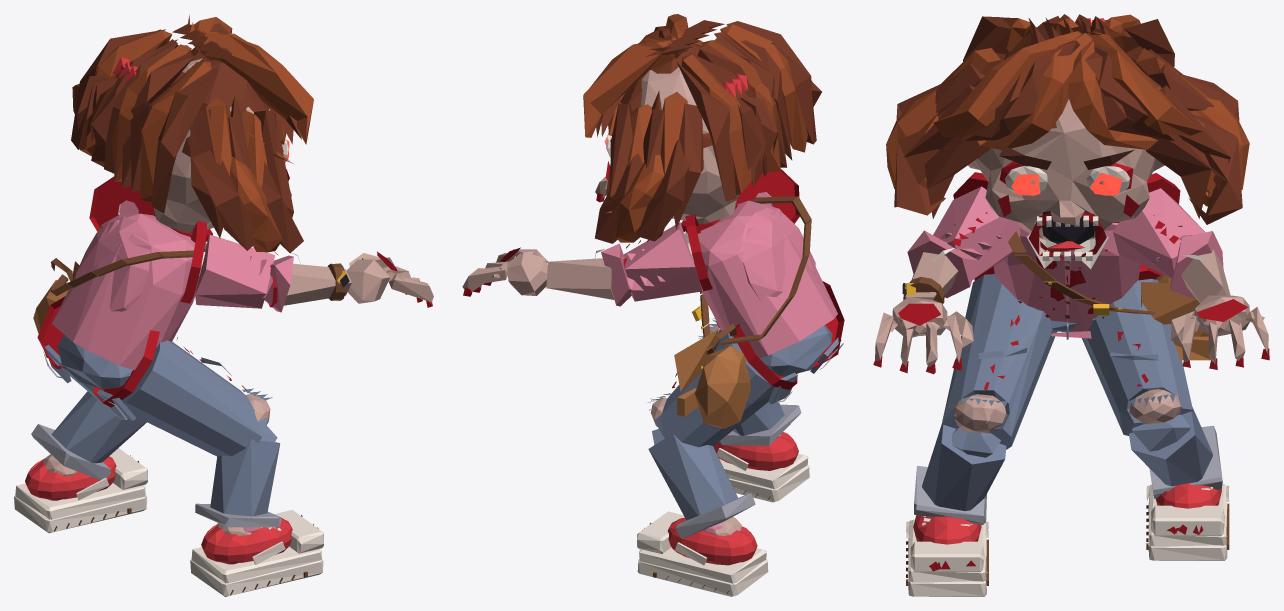
The model's file is inf.suburban-mom.lod1.glb.
3 renders of one model, left to right at view 1: azimuth 30°, elevation 25°; view 2: azimuth 150°, elevation 25°; view 3: azimuth 270°, elevation 25°, orthographic. The views are drawn at different scales.
Parts seen in each view (by area): view 1: head, torso, legR, footR, footL, armR, shinR, shinL, hip, handR, foreArmR, stump_armL (+4 smaller); view 2: head, torso, footL, hip, shinL, armL, footR, legL, handL, foreArmL, shinR, stump_armR (+3 smaller); view 3: head, legR, legL, torso, shinR, footR, footL, armR, armL, shinL, handR, handL (+4 smaller).
Boxes of the visible parts, x1,y1,x2,y2 form: head: (71, 14, 313, 253); torso: (50, 213, 207, 370); legR: (97, 340, 272, 456); footR: (190, 510, 323, 596); footL: (14, 448, 147, 533); armR: (195, 234, 301, 312); shinR: (195, 425, 281, 527); shinL: (31, 391, 146, 480); hip: (33, 258, 132, 389); handR: (346, 251, 433, 307); foreArmR: (284, 263, 351, 305); stump_armL: (89, 176, 154, 231); head: (583, 14, 821, 243); torso: (684, 196, 837, 368); footL: (637, 511, 768, 596); hip: (674, 324, 832, 428); shinL: (648, 429, 755, 538); armL: (594, 222, 702, 306); footR: (713, 432, 809, 502); legL: (648, 333, 797, 447); handL: (462, 247, 547, 296); foreArmL: (546, 258, 614, 299); shinR: (719, 402, 801, 445); stump_armR: (736, 169, 799, 223); head: (886, 14, 1249, 260); legR: (942, 274, 1057, 449); legL: (1082, 278, 1192, 435); torso: (993, 222, 1155, 338); shinR: (914, 423, 1006, 524); footR: (906, 515, 988, 596); footL: (1146, 483, 1229, 560); armR: (907, 186, 1020, 298); armL: (1113, 188, 1223, 298); shinL: (1129, 407, 1222, 498); handR: (873, 297, 973, 374); handL: (1170, 295, 1269, 369).
Size of the model in its own units: 1.08 by 1.79 by 1.18.
